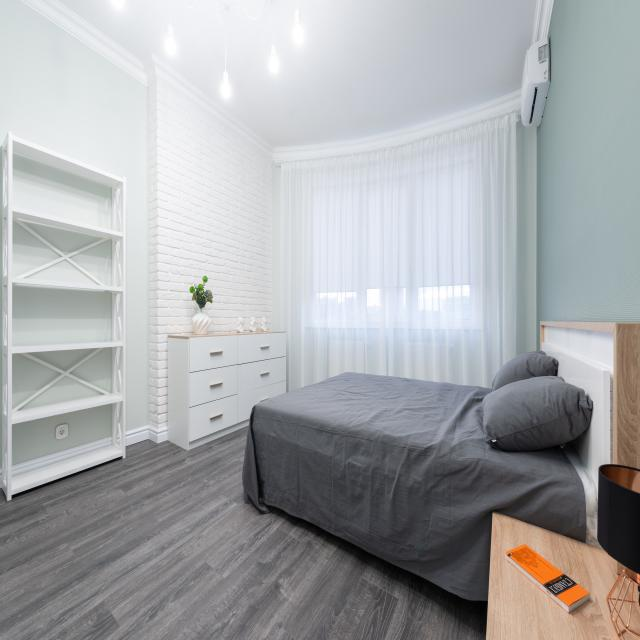floor: (0, 424, 488, 640)
wall: (157, 79, 272, 429), (536, 0, 640, 351), (12, 152, 112, 230), (12, 404, 112, 466), (12, 286, 112, 347), (148, 79, 158, 429), (17, 218, 105, 255), (16, 375, 106, 411), (12, 220, 63, 277), (12, 353, 62, 410), (69, 239, 112, 287), (23, 259, 101, 285), (69, 347, 112, 394), (26, 348, 99, 372)
